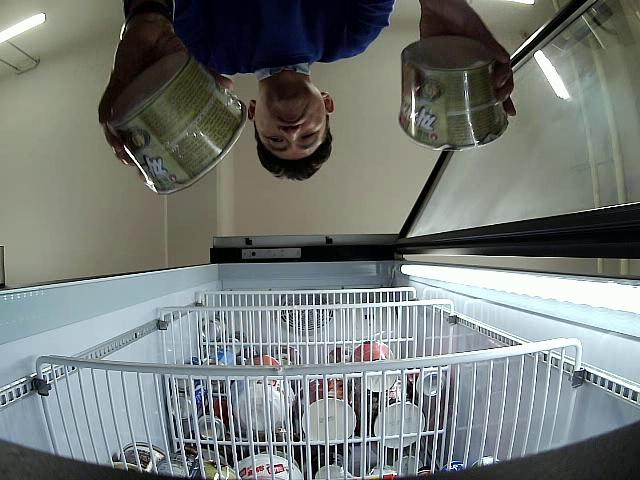00_hand: (98, 22, 235, 166), (419, 4, 516, 117)
03_chapagetti_L: (108, 51, 244, 194), (396, 38, 508, 152)
